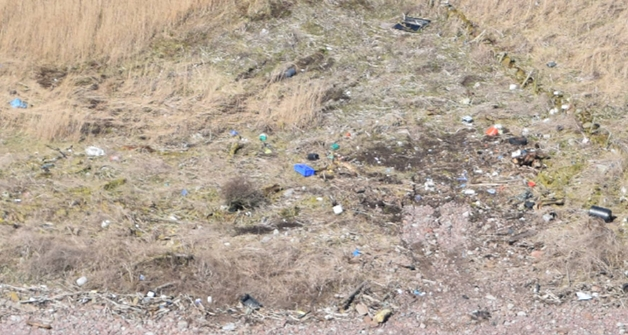scattered_barrel: (222, 124, 353, 216)
together_barrel: (22, 274, 628, 335), (446, 109, 622, 235)
white_in_green: (374, 1, 450, 46), (63, 130, 125, 172), (268, 50, 314, 94), (1, 83, 44, 126)
